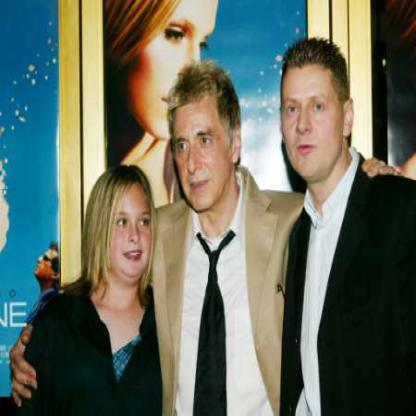face: (126, 1, 228, 145), (277, 45, 346, 180), (173, 79, 233, 216), (101, 167, 158, 280)
